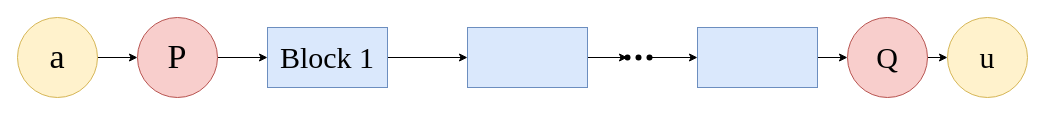
Some shapes in this 1045 by 115 pixel diagram are drawn without their labels. The centre of each missing label's shape, as x and y in pixels:
Block 2: (527,57)
Block L: (757,57)
